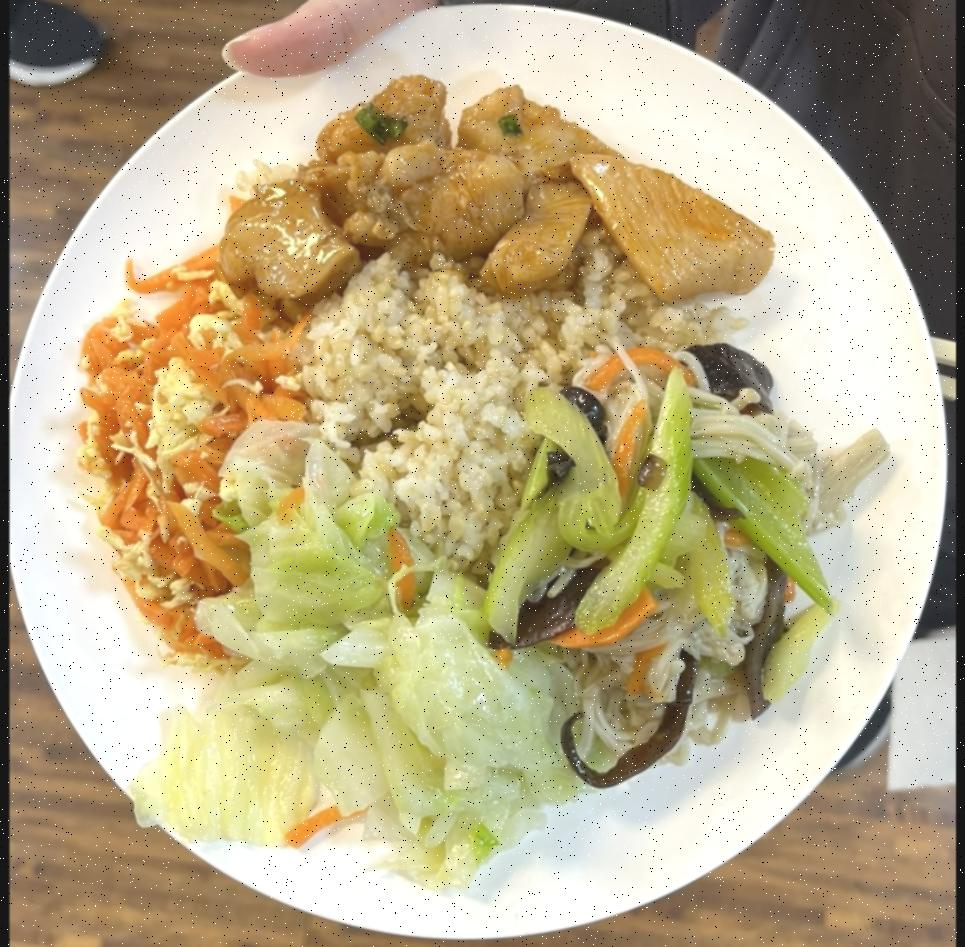brown rice: (292, 268, 536, 549)
plate: (9, 0, 952, 940)
side dish: (135, 427, 580, 882), (492, 348, 887, 764), (76, 276, 284, 652)
spicy chicken: (206, 72, 776, 302)
